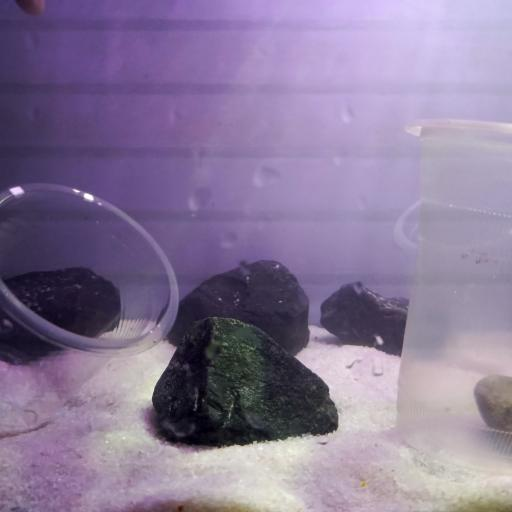plastic_cup: (0, 180, 179, 439), (397, 119, 512, 479), (394, 193, 420, 263)
